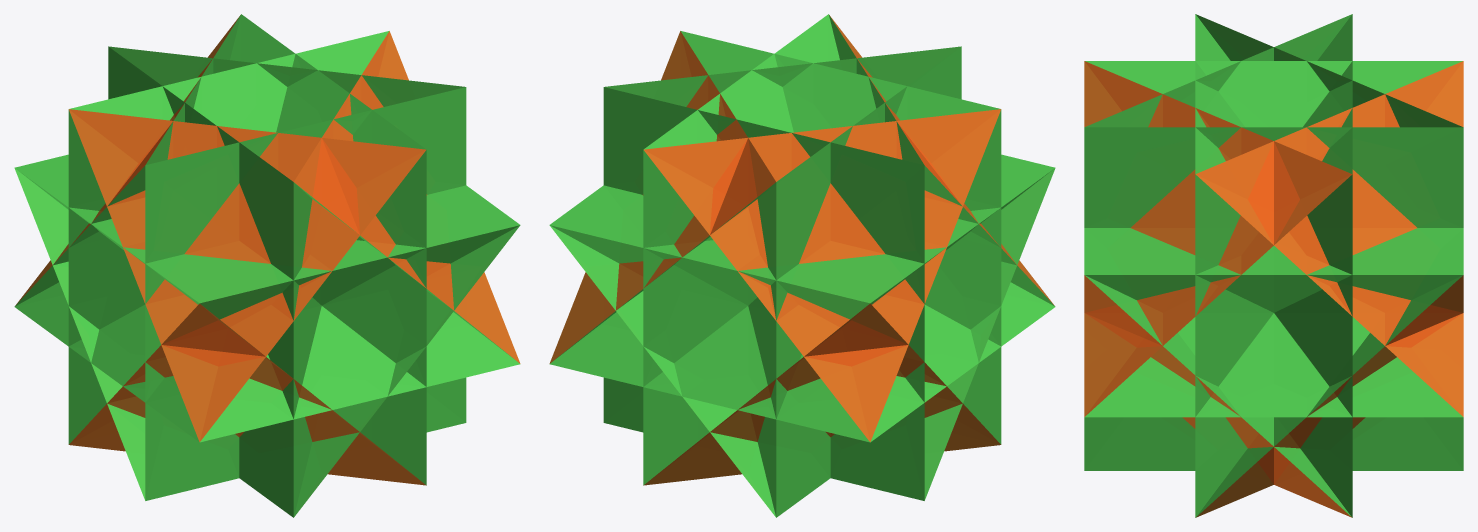
The model's file is UniformGreatRhombicuboctahedron.obj.
3 views of the same model, side by side, from view 1: azimuth 30°, elevation 25°; view 2: azimuth 150°, elevation 25°; view 3: azimuth 270°, elevation 25° (orthographic). The views are drawn at different scales.
Size of the model in its own units: 1 by 1 by 1.
